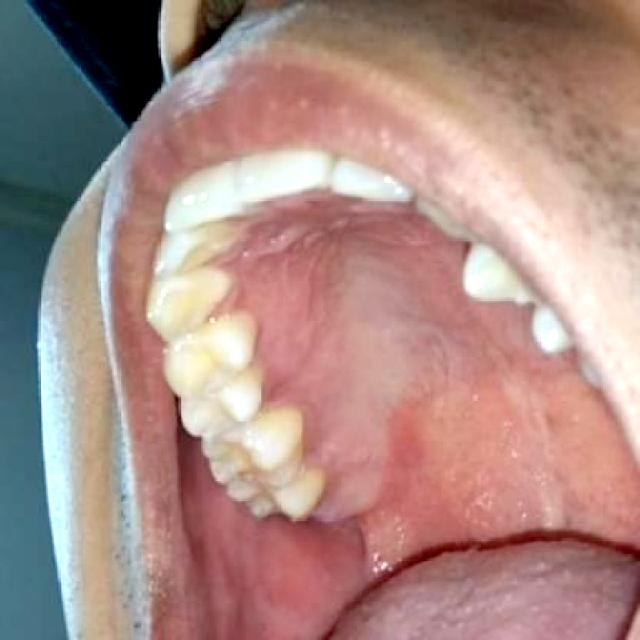Plaque: (233, 469, 248, 480)
